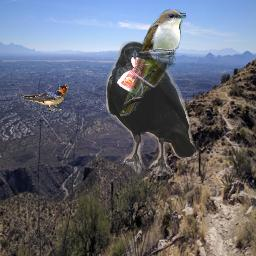Crow: (106, 41, 197, 176)
Cuckoo: (119, 8, 186, 116)
Swallow: (21, 84, 69, 111)
